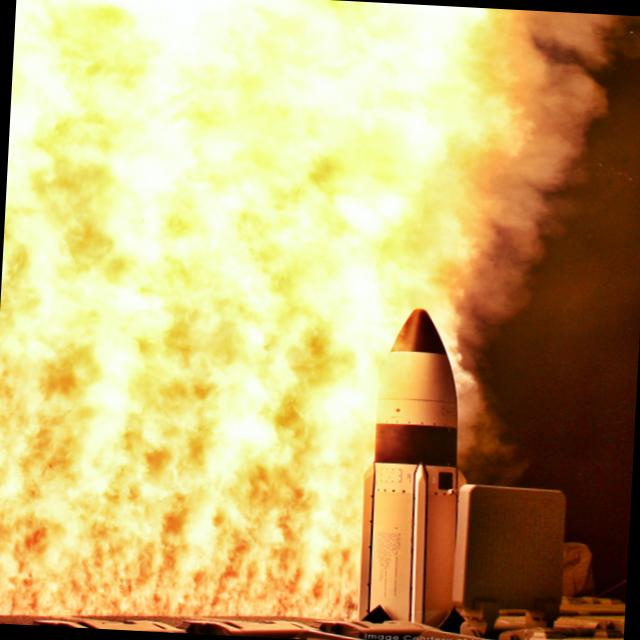rocket: (349, 291, 483, 640)
